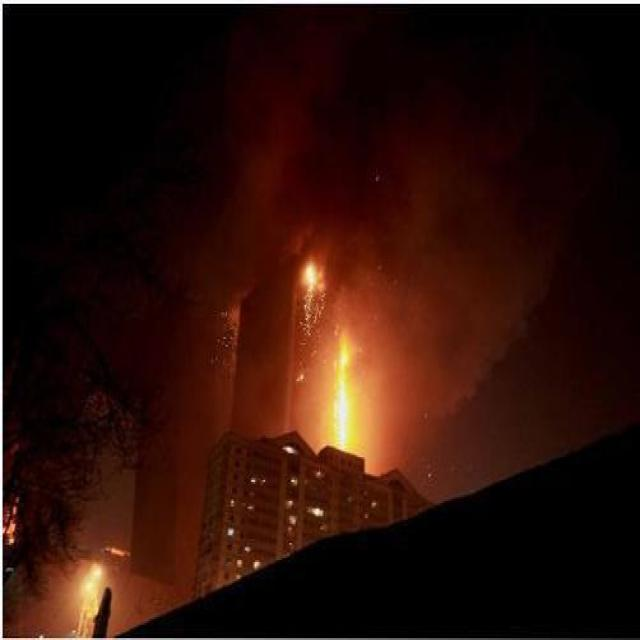fire: (323, 307, 363, 444), (300, 236, 324, 292)
other: (72, 551, 116, 611)
